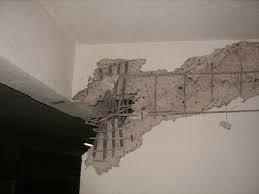spalling: (71, 41, 259, 176)
